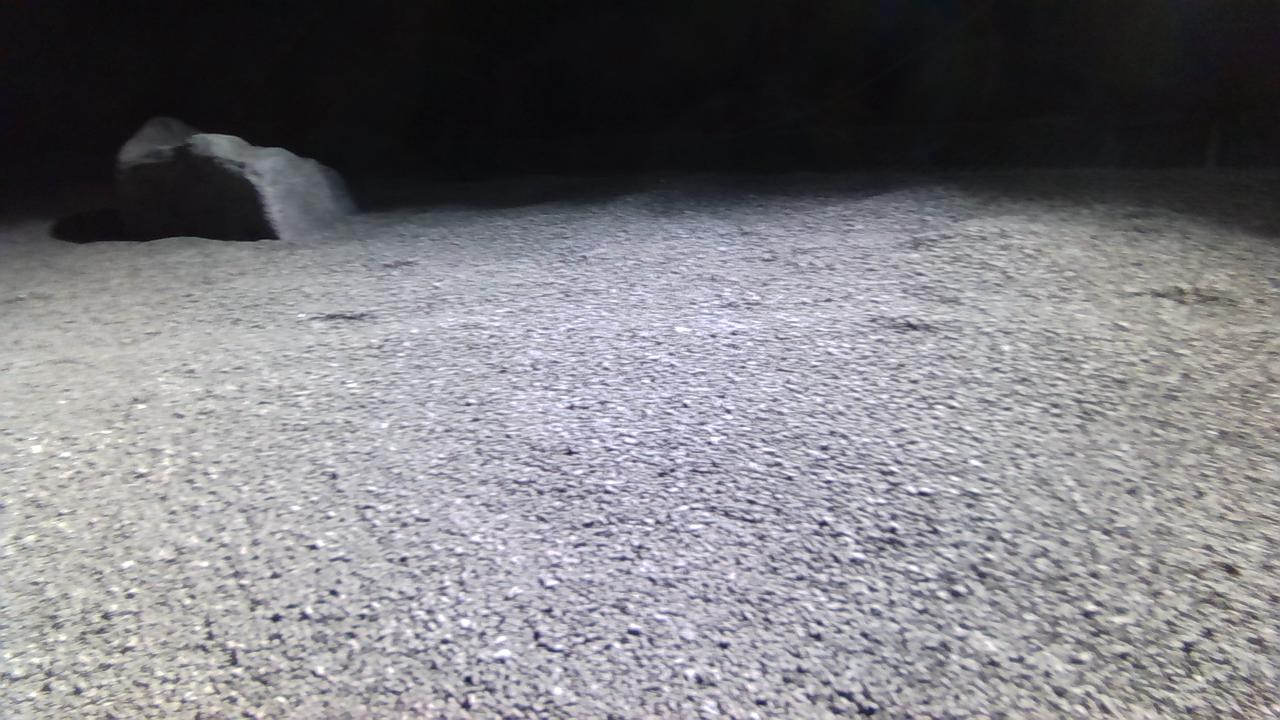rock: (115, 116, 354, 239)
